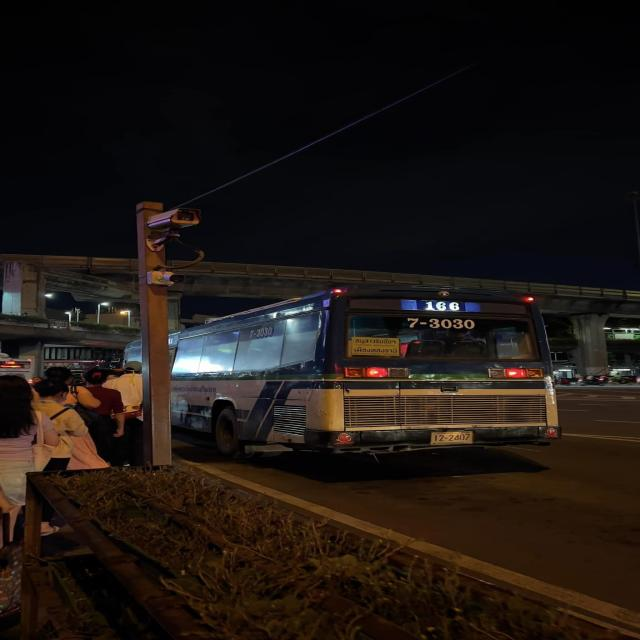BMTA-bus: (119, 281, 566, 456)
Bus-Line-Number: (420, 300, 466, 313)
Destination-Sign-Normal-Expressway: (350, 337, 402, 357)
